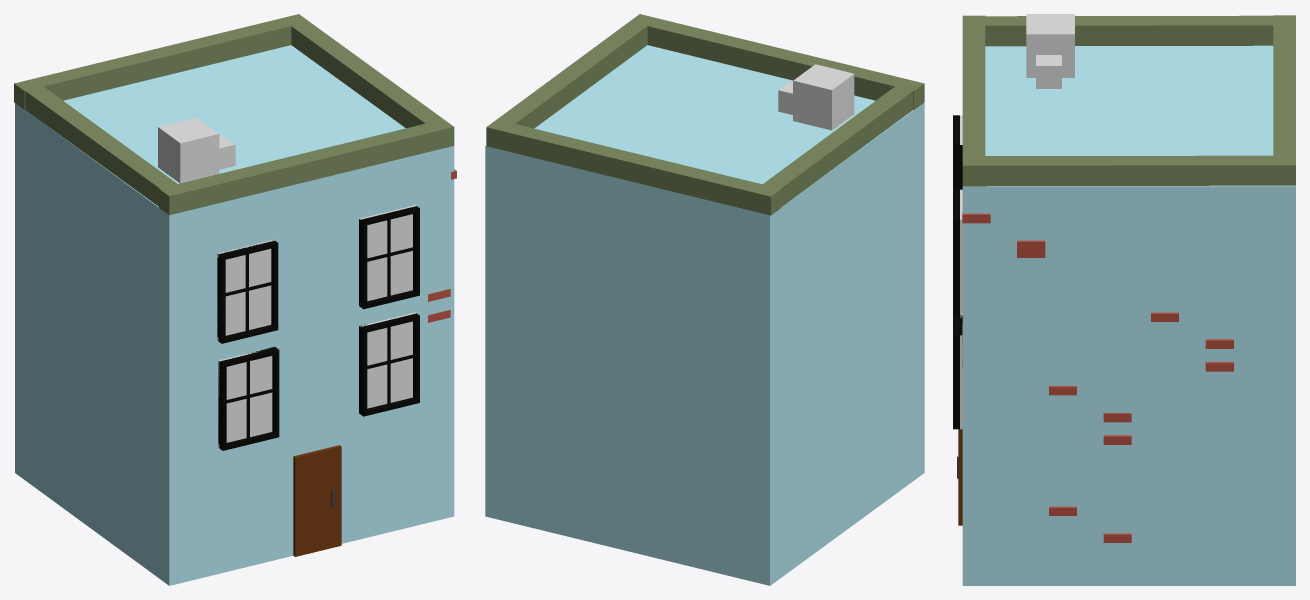
The model's file is First3DSample.fbx.
3 views of the same model, side by side, from view 1: azimuth 30°, elevation 25°; view 2: azimuth 150°, elevation 25°; view 3: azimuth 270°, elevation 25° (orthographic). The views are drawn at different scales.
Parts seen in each view (by area): view 1: Building, Cube.003, Cube.004, Cube.002, Door, roof, Cube.101, Cube.110, Cube.005, Cube.083, Cube.092, Cube.010 (+5 smaller); view 2: Building, Cube.004, Cube.003, Cube.002, roof, Cube.110; view 3: Building, roof, Cube.002, Cube.003, Cube.004, Cube.110, Cube.111, Cube.089, Cube.098, Door.
Part boxes in pixels (left/top/right/bottom): Building: left=15, top=45, right=454, bottom=585; Cube.003: left=159, top=119, right=454, bottom=215; Cube.004: left=14, top=14, right=308, bottom=109; Cube.002: left=25, top=86, right=177, bottom=206; Door: left=293, top=445, right=341, bottom=556; roof: left=291, top=21, right=443, bottom=128; Cube.101: left=218, top=349, right=272, bottom=448; Cube.110: left=158, top=117, right=219, bottom=183; Cube.005: left=217, top=239, right=274, bottom=341; Cube.083: left=359, top=205, right=416, bottom=304; Cube.092: left=360, top=312, right=416, bottom=408; Cube.010: left=217, top=257, right=225, bottom=339; Building: left=485, top=45, right=924, bottom=585; Cube.004: left=486, top=119, right=781, bottom=215; Cube.003: left=630, top=14, right=924, bottom=109; Cube.002: left=763, top=86, right=913, bottom=206; roof: left=497, top=21, right=647, bottom=128; Cube.110: left=793, top=64, right=854, bottom=130; Building: left=962, top=45, right=1295, bottom=585; roof: left=985, top=155, right=1273, bottom=186; Cube.002: left=985, top=15, right=1273, bottom=46; Cube.003: left=962, top=15, right=985, bottom=186; Cube.004: left=1273, top=15, right=1295, bottom=185; Cube.110: left=1026, top=14, right=1074, bottom=77; Cube.111: left=1036, top=55, right=1061, bottom=88; Cube.089: left=953, top=224, right=959, bottom=309; Cube.098: left=953, top=339, right=959, bottom=424; Door: left=958, top=429, right=962, bottom=525.
Bounding box in the file's own units: 3177 × 4332 × 3035.
